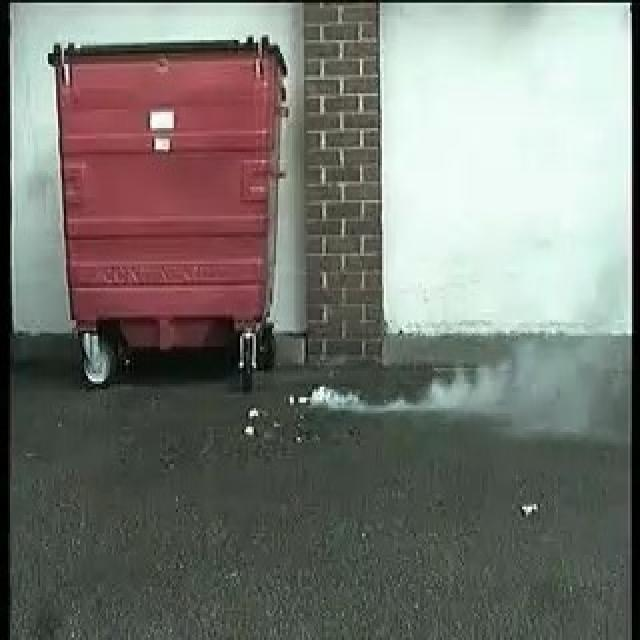smoke: (290, 345, 548, 433)
